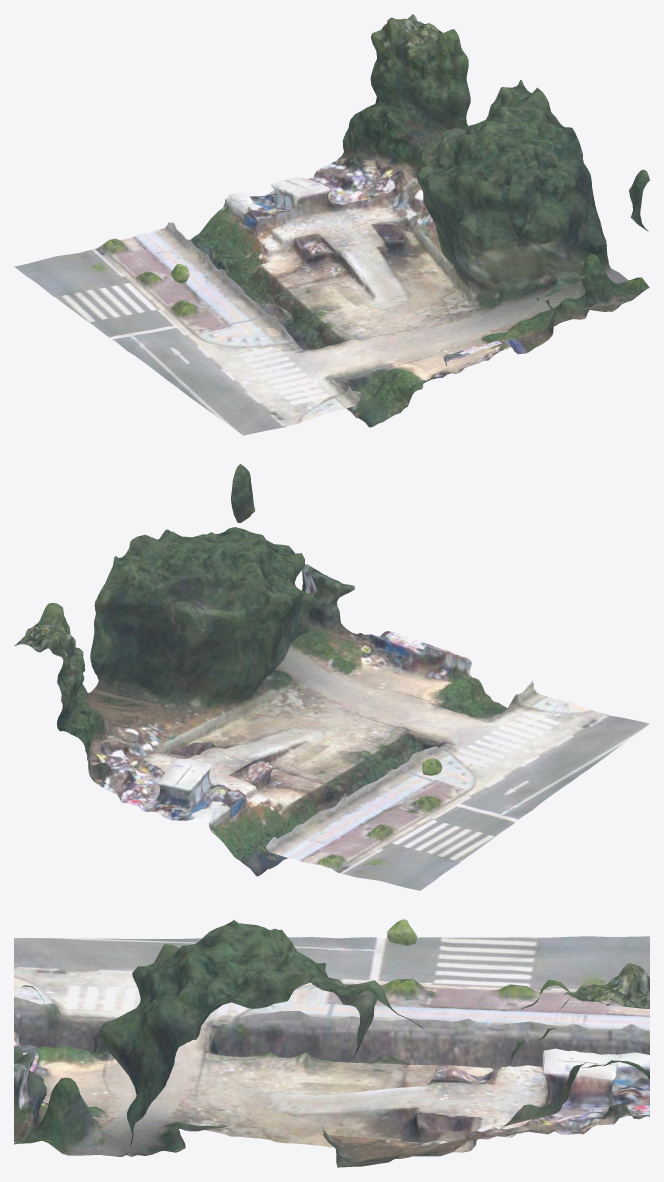
File: Tile_+005_+003_L22_00003000.glb
The picture shows the model from 3 angles, top to bottom: view 1: azimuth 30°, elevation 25°; view 2: azimuth 150°, elevation 25°; view 3: azimuth 270°, elevation 25°; orthographic projection. The views are drawn at different scales.
Visible parts, largest first — view 1: rtc; view 2: rtc; view 3: rtc.
Part boxes in pixels (x1=…): rtc: x1=14, y1=14, x2=649, y2=435; rtc: x1=14, y1=464, x2=649, y2=890; rtc: x1=14, y1=919, x2=649, y2=1167.
Bounding box in the file's own units: 25.59 × 11.79 × 25.06.
1 material, 1 textured.
